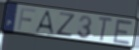3: (77, 15, 94, 40)
A: (34, 10, 55, 36)
E: (112, 18, 134, 46)
F: (16, 7, 37, 32)
T: (97, 15, 114, 43)
Z: (55, 11, 77, 38)
